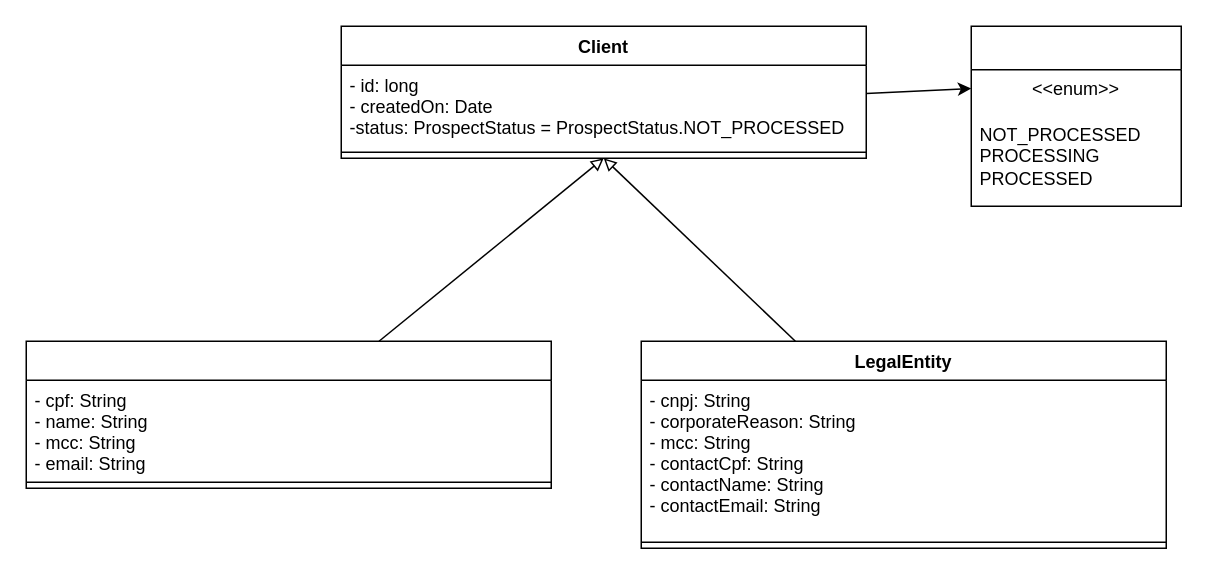
The diagram is 1208 pixels wide and 575 high, and some of its shapes have lost their labels. The box of each missing label's shape, as (x1, y1, x2, y2) in pixels:
NaturalPerson: (25, 340, 551, 488)
ProspectStatus: (970, 25, 1181, 206)
